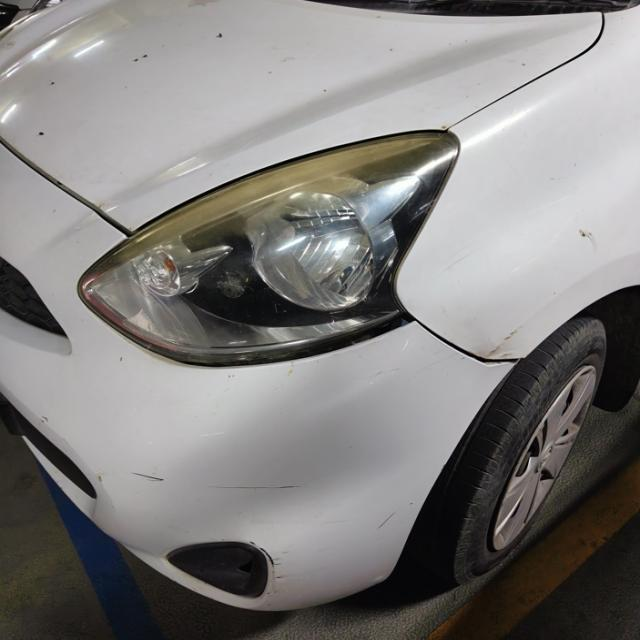scratch: (150, 526, 312, 610), (125, 456, 316, 500), (250, 536, 288, 600), (477, 321, 530, 365), (199, 476, 306, 496), (372, 496, 402, 544), (488, 325, 528, 360), (569, 219, 609, 250), (440, 243, 474, 277), (373, 506, 406, 536), (125, 466, 171, 484)
